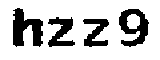9: (114, 5, 149, 50)
h: (5, 1, 44, 51)
z: (43, 15, 77, 49), (80, 14, 112, 50)
